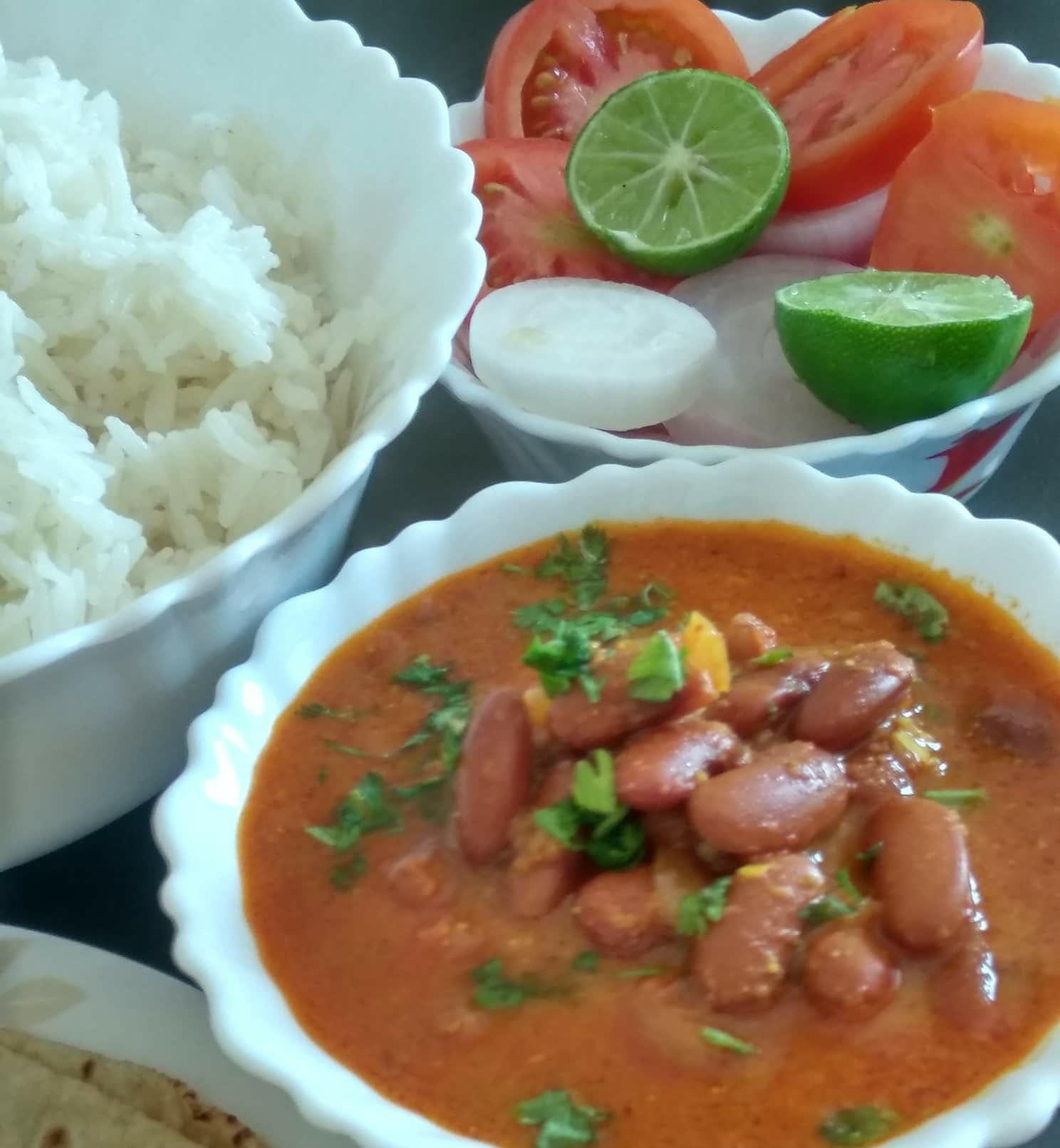RajmaCurry: (245, 524, 1060, 1148)
WhiteRice: (0, 39, 372, 659)
